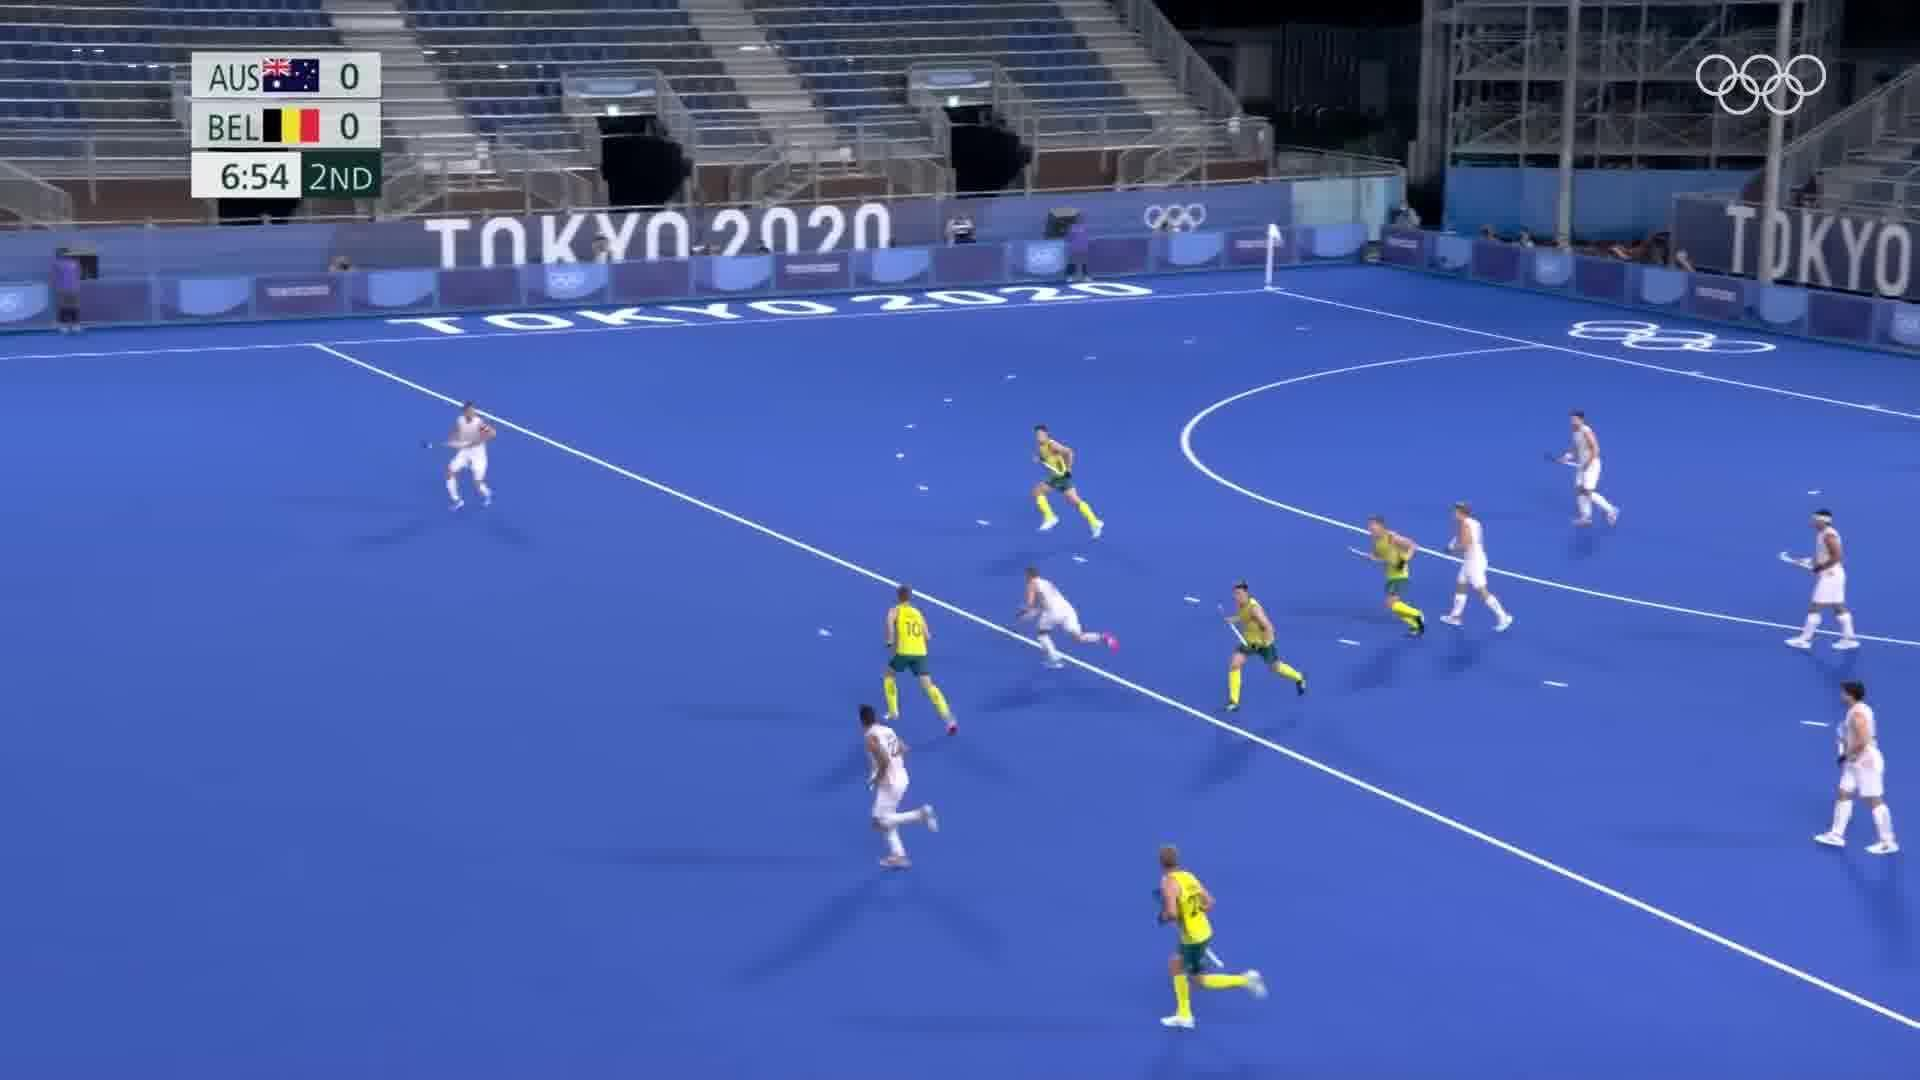ball: (812, 618, 837, 645)
